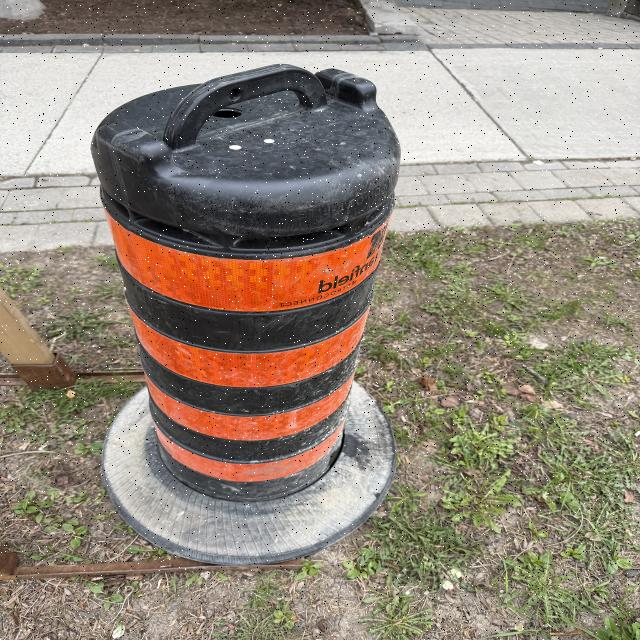Teraffic Barrel: (92, 65, 400, 563)
